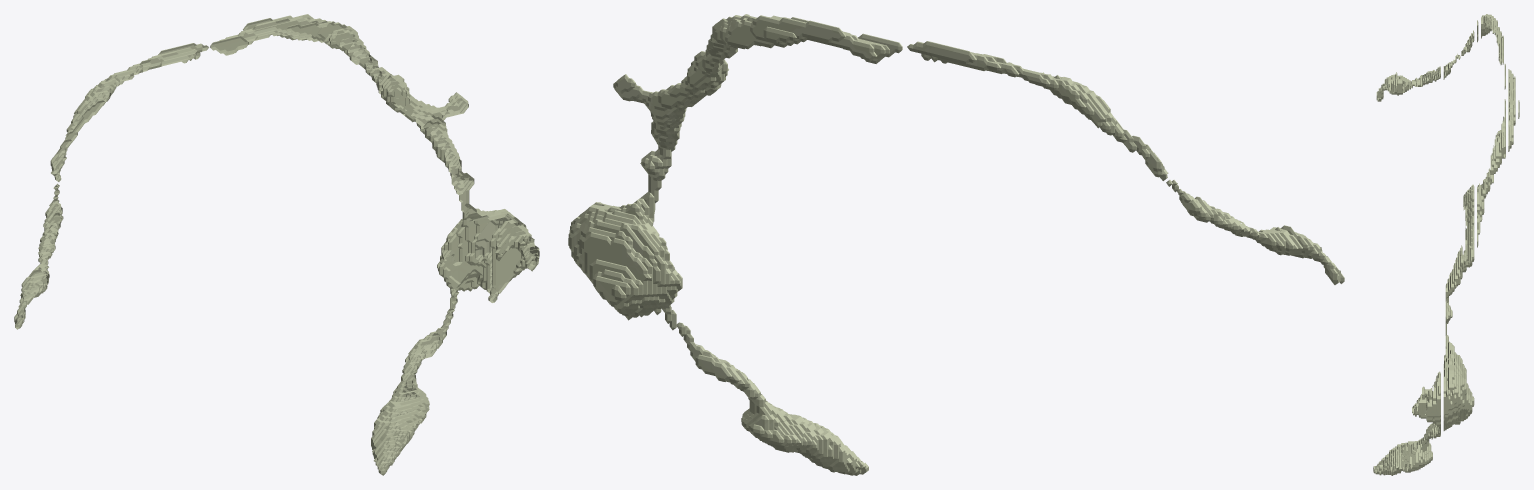
Rendered from SVV_BAGL.gltf.
The picture shows the model from 3 angles, left to right: view 1: azimuth 30°, elevation 25°; view 2: azimuth 150°, elevation 25°; view 3: azimuth 270°, elevation 25°; orthographic projection. The views are drawn at different scales.
Visible parts, largest first — view 1: BAGL; view 2: BAGL; view 3: BAGL.
Boxes of the visible parts, x1=… form: BAGL: x1=14, y1=14, x2=539, y2=475; BAGL: x1=568, y1=14, x2=1344, y2=475; BAGL: x1=1373, y1=14, x2=1519, y2=475.
Bounding box in the file's own units: 112187 × 79906 × 28554.
